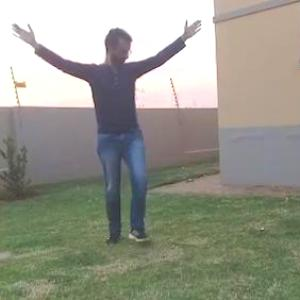takeoff: (1, 0, 227, 258)
